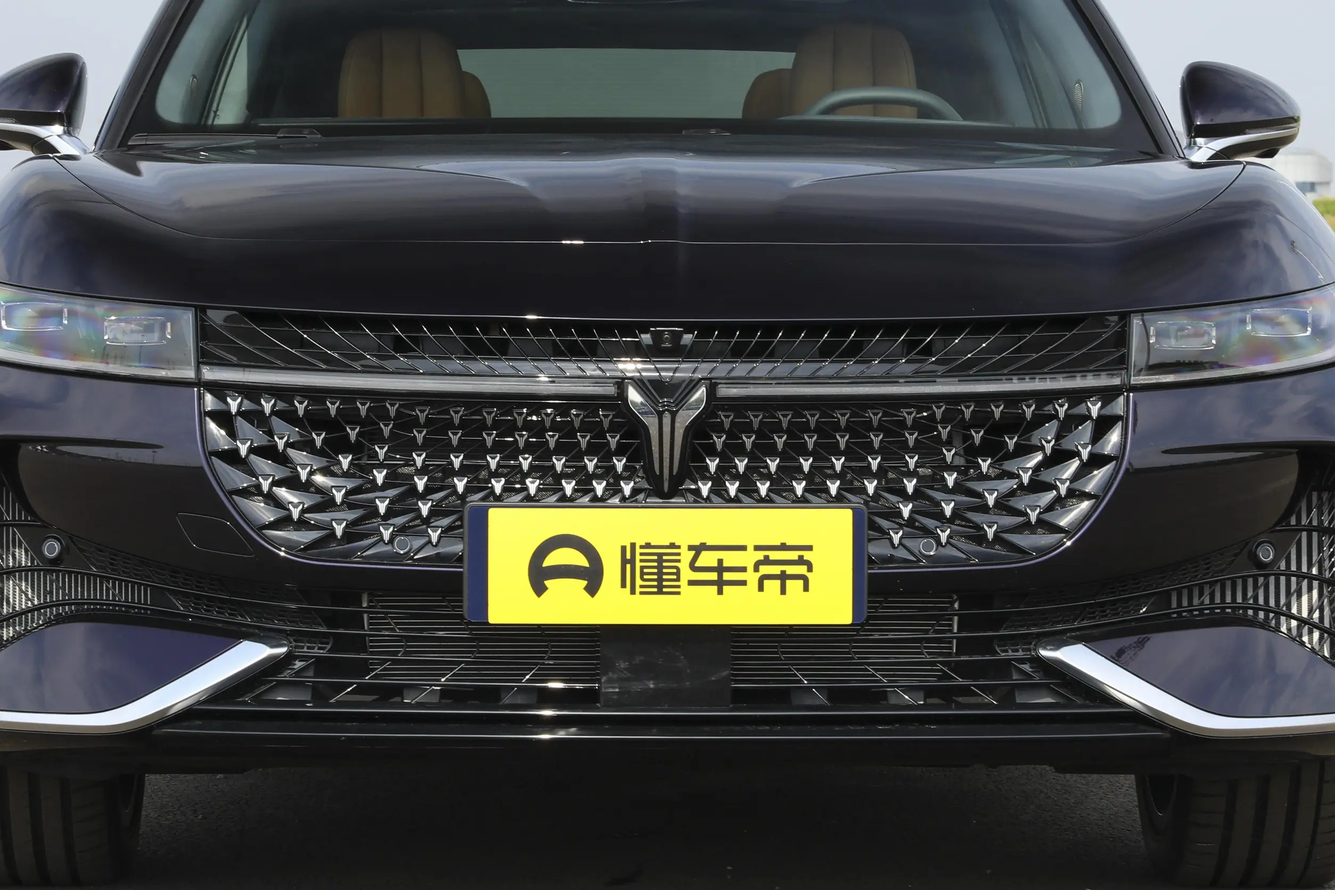VOYAH: (628, 385, 705, 492)
